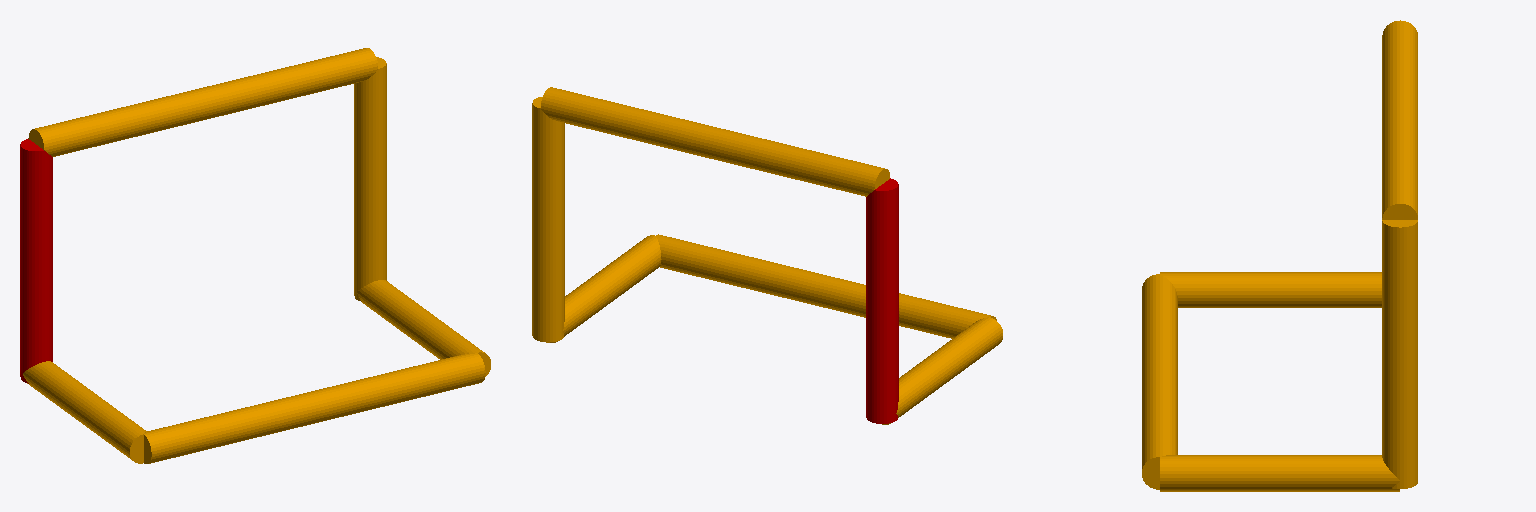
The robot description file, URDF, robot "hockey_goal_with_net":
<?xml version="1.0"?>
<robot name="hockey_goal_with_net">

  <link name="goal_frame">

    <!-- inertial (mass 0.422 kg, inertia scaled down appropriately) -->
    <inertial>
      <!-- CoM: halfway up & halfway back -->
      <origin xyz="0 -0.127 0.1524" rpy="0 0 0"/>
      <mass value="0.422"/>
      <inertia ixx="0.0055" ixy="0" ixz="0"
               iyy="0.0107" iyz="0"
               izz="0.0096"/>
    </inertial>

    <!-- ===== CYLINDER GEOMETRY (tube Ø ≈ 0.038 m) =================== -->

    <!-- Left upright -->
    <visual>
      <origin xyz="-0.2286 0 0.1524" rpy="0 0 0"/>
      <geometry><cylinder radius="0.01905" length="0.3048"/></geometry>
      <material name="goal_red"><color rgba="0.8 0 0 1"/></material>
    </visual>
    <collision>
      <origin xyz="-0.2286 0 0.1524" rpy="0 0 0"/>
      <geometry><cylinder radius="0.01905" length="0.3048"/></geometry>
    </collision>

    <!-- Right upright -->
    <visual>
      <origin xyz="0.2286 0 0.1524" rpy="0 0 0"/>
      <geometry><cylinder radius="0.01905" length="0.3048"/></geometry>
    </visual>
    <collision>
      <origin xyz="0.2286 0 0.1524" rpy="0 0 0"/>
      <geometry><cylinder radius="0.01905" length="0.3048"/></geometry>
    </collision>

    <!-- Top cross-bar -->
    <visual>
      <origin xyz="0 0 0.3048" rpy="0 1.57079632679 0"/>
      <geometry><cylinder radius="0.01905" length="0.4572"/></geometry>
    </visual>
    <collision>
      <origin xyz="0 0 0.3048" rpy="0 1.57079632679 0"/>
      <geometry><cylinder radius="0.01905" length="0.4572"/></geometry>
    </collision>

    <!-- Left depth runner -->
    <visual>
      <origin xyz="-0.2286 -0.127 0.009525" rpy="1.57079632679 0 0"/>
      <geometry><cylinder radius="0.01905" length="0.254"/></geometry>
    </visual>
    <collision>
      <origin xyz="-0.2286 -0.127 0.009525" rpy="1.57079632679 0 0"/>
      <geometry><cylinder radius="0.01905" length="0.254"/></geometry>
    </collision>

    <!-- Right depth runner -->
    <visual>
      <origin xyz="0.2286 -0.127 0.009525" rpy="1.57079632679 0 0"/>
      <geometry><cylinder radius="0.01905" length="0.254"/></geometry>
    </visual>
    <collision>
      <origin xyz="0.2286 -0.127 0.009525" rpy="1.57079632679 0 0"/>
      <geometry><cylinder radius="0.01905" length="0.254"/></geometry>
    </collision>

    <!-- Rear bar -->
    <visual>
      <origin xyz="0 -0.254 0.009525" rpy="0 1.57079632679 0"/>
      <geometry><cylinder radius="0.01905" length="0.4572"/></geometry>
    </visual>
    <collision>
      <origin xyz="0 -0.254 0.009525" rpy="0 1.57079632679 0"/>
      <geometry><cylinder radius="0.01905" length="0.4572"/></geometry>
    </collision>

  </link>

  <link name="goal_net">
    <visual>
      <origin xyz="0 -0.01 0.0" rpy="0 0 0"/>
      <geometry>
        <mesh filename="models/hockey_goal/soccer_net.stl"
              scale="2.33 2.0 1.93"/>
      </geometry>
      <material name="net_white"><color rgba="1 1 1 1"/></material>
    </visual>
  </link>

  <joint name="net_fixed_to_frame" type="fixed">
    <parent link="goal_frame"/>
    <child link="goal_net"/>
    <origin xyz="0 -0.14 0.0" rpy="0 0 3.14"/>
  </joint>

</robot>

--- What the picture shows (computed from the rendered views, not written in the file) ---
The picture shows the robot from 3 angles, left to right: view 1: azimuth 30°, elevation 25°; view 2: azimuth 150°, elevation 25°; view 3: azimuth 270°, elevation 25°; orthographic projection.
Model hockey_goal_with_net with 2 links and 1 joints (1 fixed), rooted at goal_frame, posed all joints at 0.
Links seen in each view (by area): view 1: goal_frame; view 2: goal_frame; view 3: goal_frame.
Boxes of the visible links, x1,y1,x2,y2 form: goal_frame: [20, 48, 490, 463]; goal_frame: [532, 87, 1002, 424]; goal_frame: [1142, 20, 1417, 491].
Size in the robot's own frame: 0.4953 by 0.2921 by 0.3334 metres.
Meshes: 1 distinct files referenced, 0 mesh visuals loaded (none loaded); not drawn: 1 (reference not matched to a file when rendering).